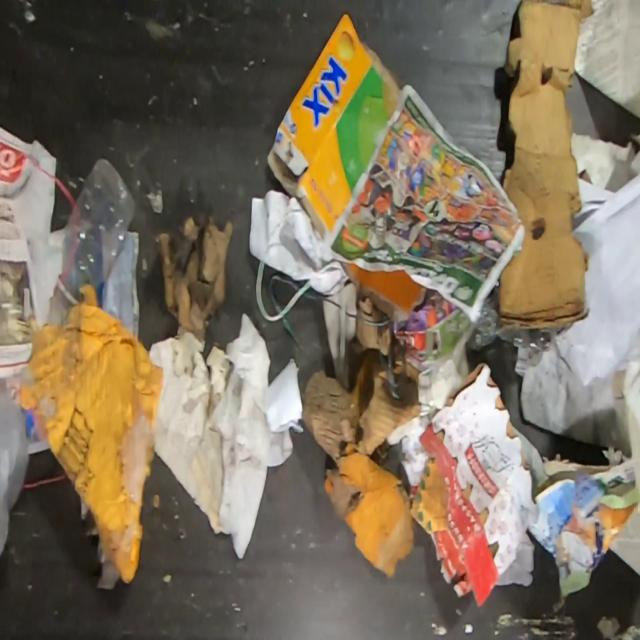cardboard: (13, 276, 167, 583), (401, 362, 541, 610), (264, 12, 403, 250), (497, 0, 594, 329), (302, 261, 422, 466), (322, 452, 450, 578), (153, 211, 236, 343)
rigid_plastic: (52, 155, 141, 312), (464, 285, 565, 351)
soft_plastic: (0, 386, 32, 562)
